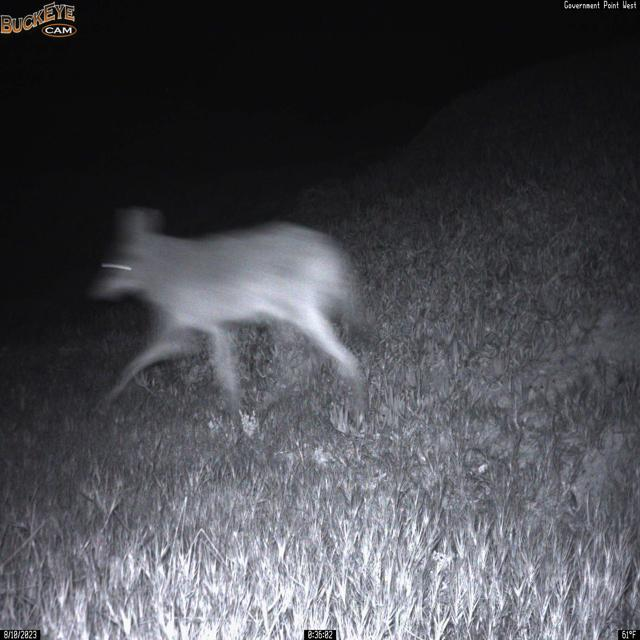coyote: (85, 201, 374, 435)
